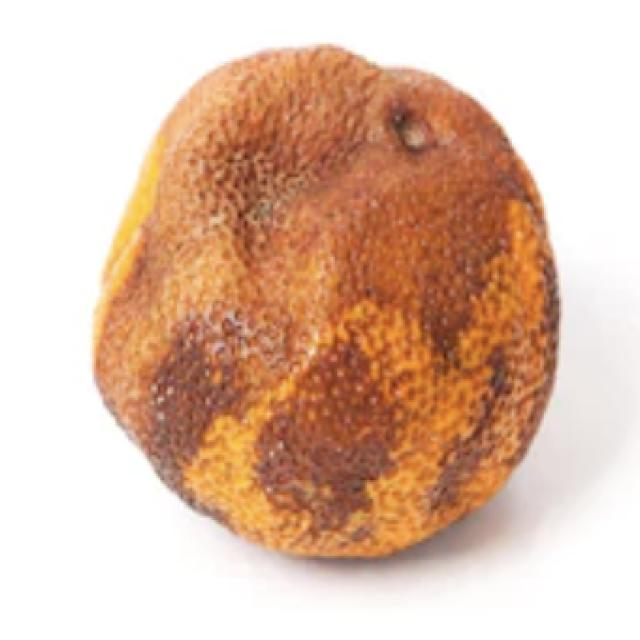sangat-busuk: (94, 47, 558, 556)
